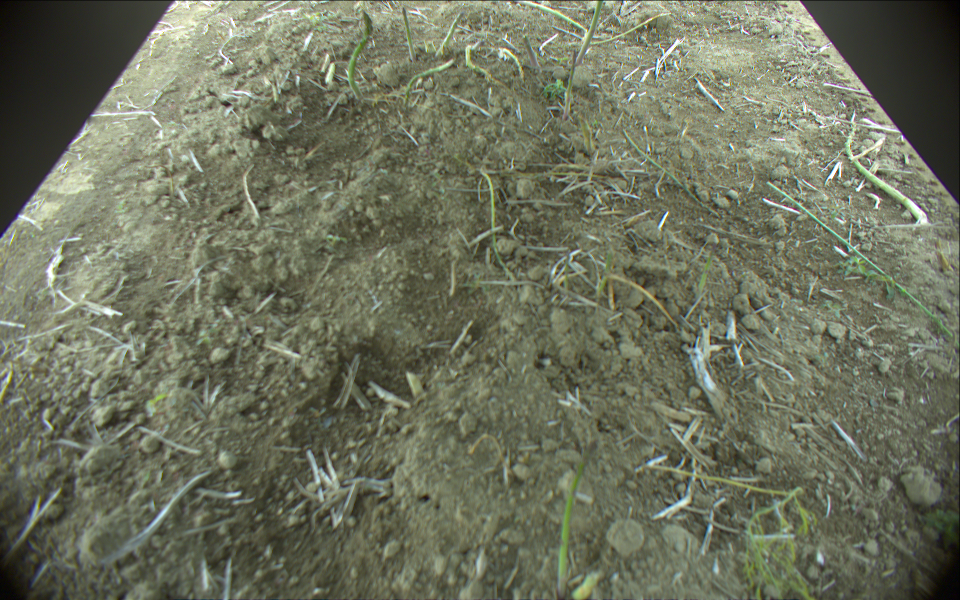aspa: (773, 184, 960, 353), (843, 121, 933, 225), (551, 440, 600, 594), (473, 167, 515, 279), (565, 12, 670, 45), (400, 59, 455, 107), (347, 10, 375, 97), (520, 1, 590, 34), (576, 1, 603, 66), (562, 43, 579, 118), (434, 13, 463, 56), (464, 42, 489, 78), (401, 6, 417, 59), (499, 47, 525, 79), (523, 34, 542, 75)
